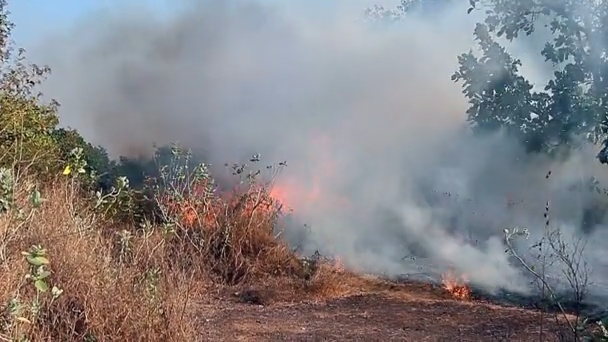fire: (456, 289, 467, 296), (63, 167, 69, 173), (79, 168, 83, 171)
